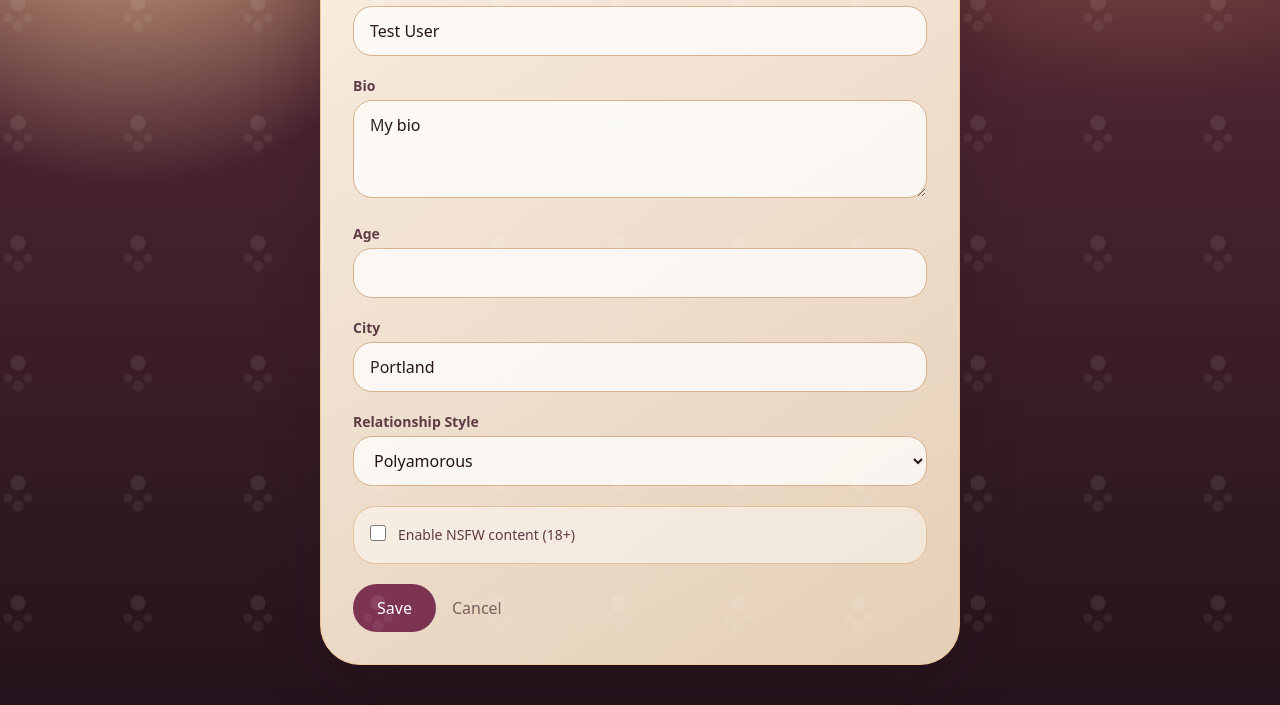
Test: ProfileEditPage › enables NSFW and sets age after confirming valid age in modal
(page scrolled)
Click the checkbox labelled "Enable NSFW content (18+)": [378, 533] box [370,525,386,541]
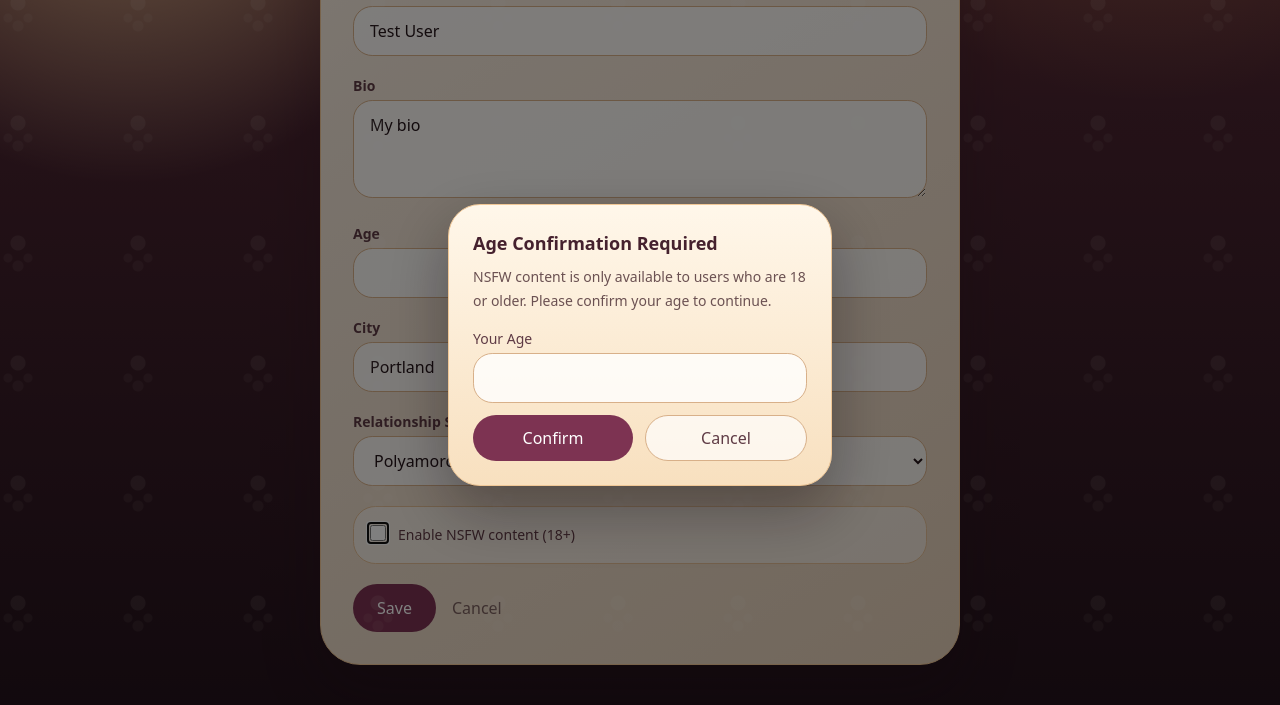
In the number field labelled "Your Age": [640, 378] box [473,353,807,403], type "21"
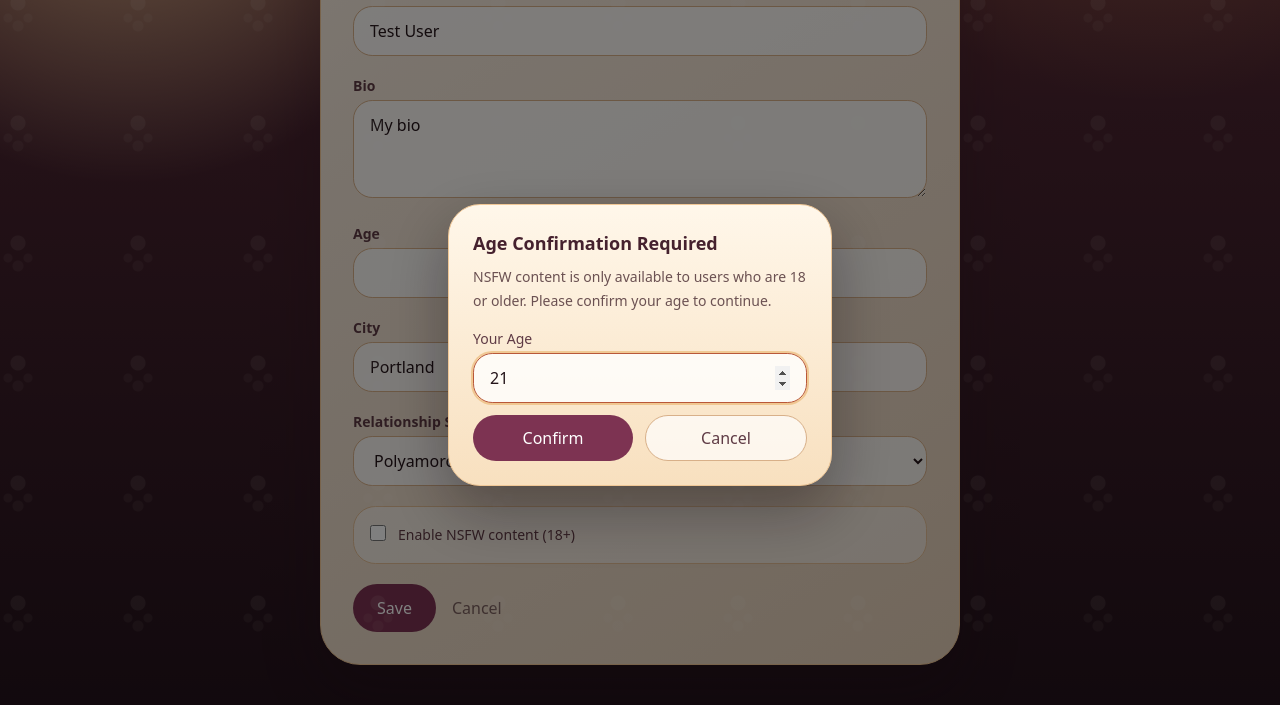
Click the button "Confirm": [553, 438] box [473,415,633,461]
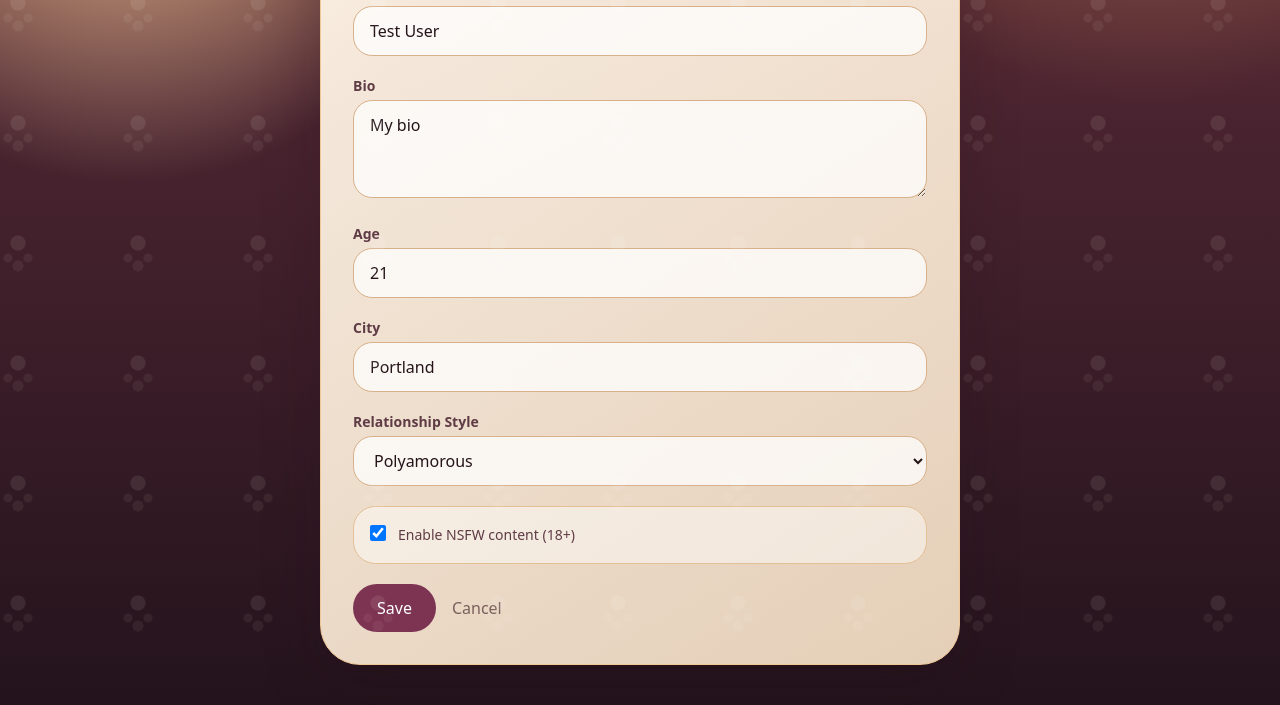
Check: the checkbox labelled "Enable NSFW content (18+)" is checked, box [370,525,386,541]
Check: the number field labelled "Age" holds "21", box [353,248,927,298]
